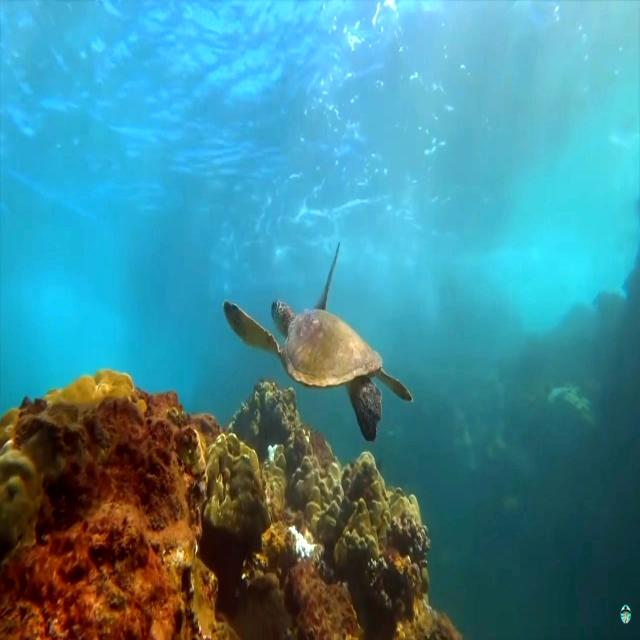Sea turtle: (220, 241, 414, 444)
